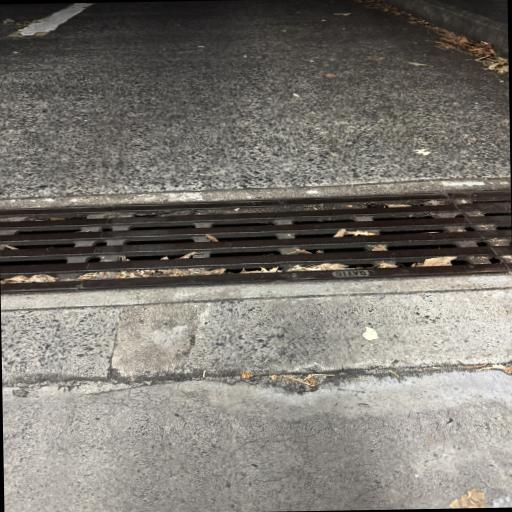gutter: (0, 190, 512, 295)
